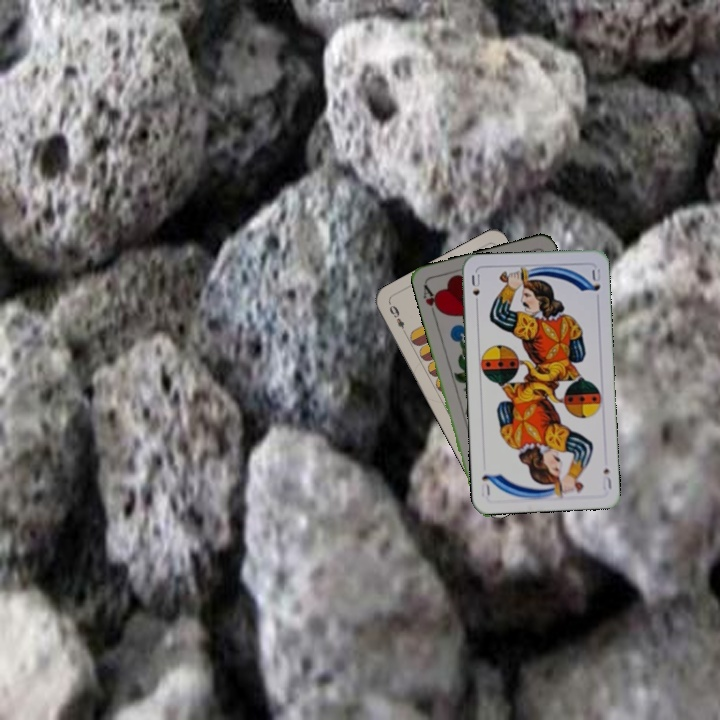E9: (385, 301, 410, 337)
HA: (419, 280, 444, 320)
SU: (468, 270, 482, 309), (598, 464, 614, 492)
